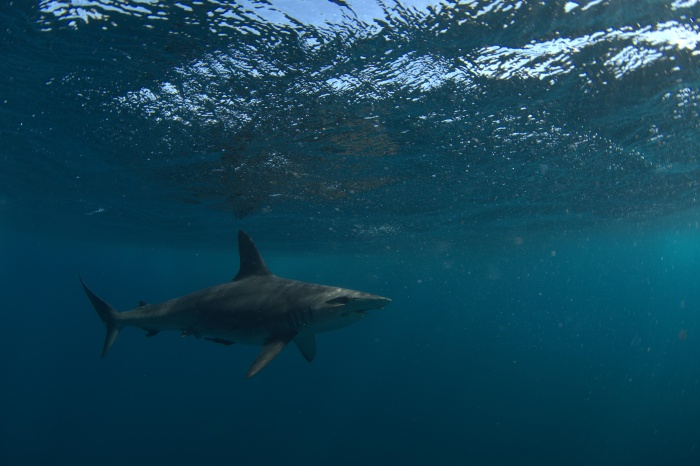Hammer: (78, 217, 394, 389)
